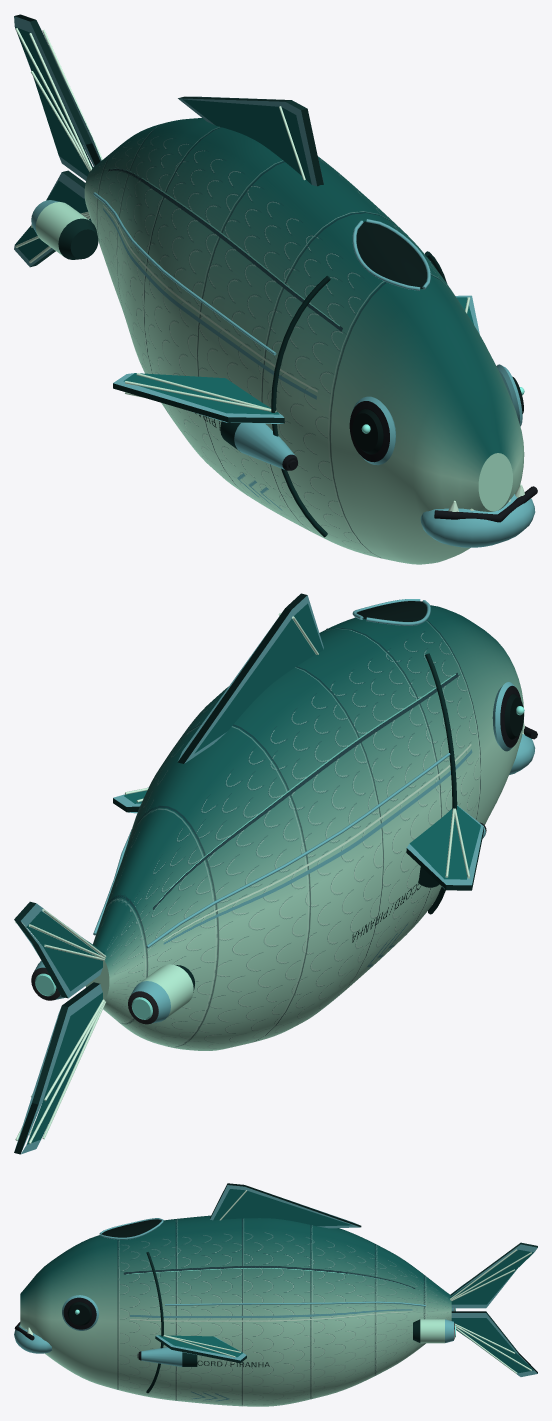
The picture shows the model from 3 angles, top to bottom: view 1: azimuth 30°, elevation 25°; view 2: azimuth 150°, elevation 25°; view 3: azimuth 270°, elevation 25°; orthographic projection. The views are drawn at different scales.
Parts seen in each view (by area): view 1: piranha_hull; view 2: piranha_hull; view 3: piranha_hull.
Boxes of the visible parts, bbox=[...] form: piranha_hull: bbox=[14, 14, 537, 564]; piranha_hull: bbox=[14, 593, 537, 1154]; piranha_hull: bbox=[14, 1183, 537, 1406].
Size of the model in its own units: 6.42 by 6.94 by 15.
Materials: 1 (1 with a texture image).
